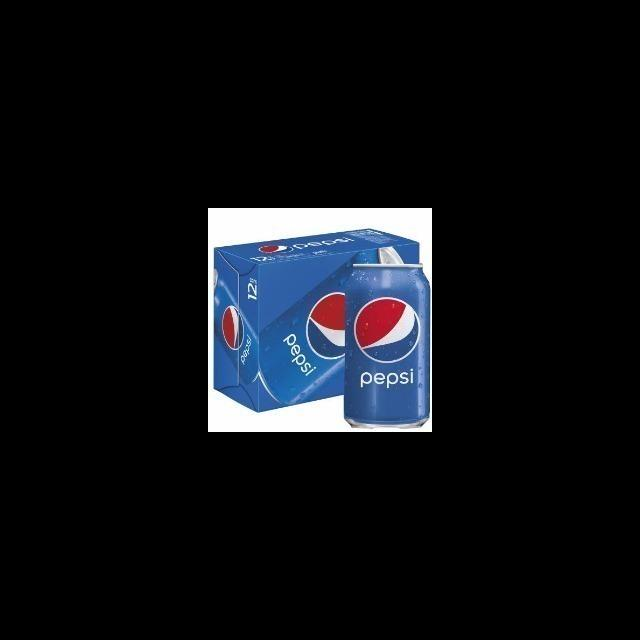metal: (344, 262, 432, 432)
